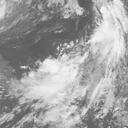cyclone: (42, 54, 87, 94)
